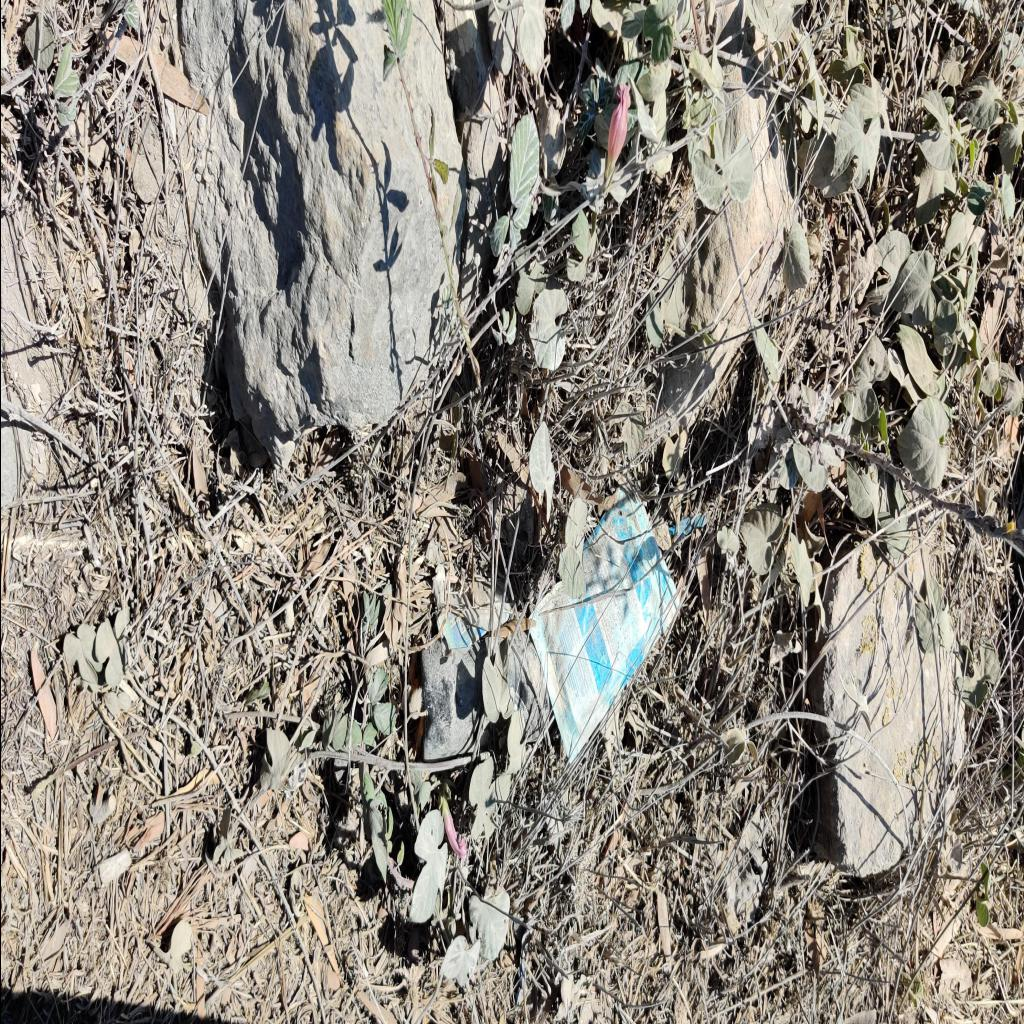Glass bottle: (418, 632, 548, 764)
Other carton: (427, 542, 513, 660)
Other plastic: (526, 484, 684, 768)
